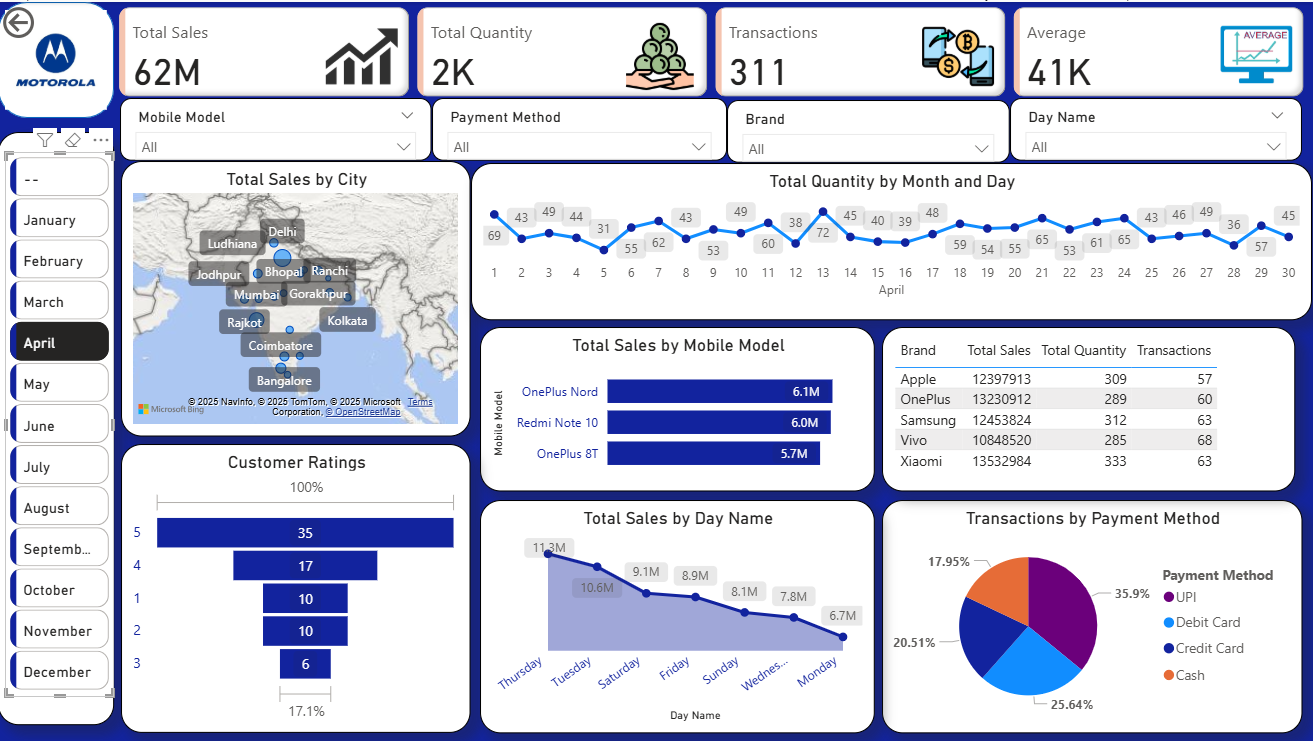

The dashboard page shown, as its layout file describes it:
{"tool":"powerbi","page":{"name":"Page 1","canvas":[1280,720],"ordinal":0},"visuals":[{"type":"shape","box":[0,126.4,112.8,576.8],"z":0},{"type":"shape","box":[0,0,112.8,112.8],"z":1000},{"type":"image","box":[6.8,7.8,99.2,97.3],"z":2000},{"type":"advancedSlicerVisual","fields":{"Values":["Sales_Data.Date.Variation.Date Hierarchy.Month"]},"box":[6.8,145.9,106,530.1],"z":3000},{"type":"cardVisual","fields":{"Data":["Sales_Data.Total Sales","Sales_Data.Total Quantity","Sales_Data.Transactions","Sales_Data.Average"]},"box":[112.8,0,1165.2,97.3],"z":4000},{"type":"map","fields":{"Category":["Sales_Data.City"],"Size":["Sales_Data.Total Sales"]},"box":[119.6,154.7,340.4,268.4],"z":5000},{"type":"lineChart","fields":{"Y":["Sales_Data.Total Quantity"],"Category":["Sales_Data.Date.Variation.Date Hierarchy.Month","Sales_Data.Date.Variation.Date Hierarchy.Day"]},"box":[460.1,156.6,818,152.7],"z":6000},{"type":"clusteredBarChart","fields":{"Category":["Sales_Data.Mobile Model"],"Y":["Sales_Data.Total Sales"]},"box":[468.8,316.1,384.2,159.5],"z":7000},{"type":"pieChart","fields":{"Category":["Sales_Data.Payment Method"],"Y":["Sales_Data.Transactions"]},"box":[859.8,484.4,408.5,226.6],"z":8000},{"type":"funnel","title":"Customer Ratings","fields":{"Category":["Sales_Data.Customer Ratings"],"Y":["CountNonNull(Sales_Data.Customer Ratings)"]},"box":[119.6,429.9,340.4,281.1],"z":9000},{"type":"areaChart","fields":{"Category":["Sales_Data.Day Name"],"Y":["Sales_Data.Total Sales"]},"box":[468.8,484.4,384.2,226.6],"z":10000},{"type":"tableEx","fields":{"Values":["Sales_Data.Brand","Sales_Data.Total Sales","Sales_Data.Total Quantity","Sales_Data.Transactions"]},"box":[859.8,316.1,401.7,159.5],"z":11000},{"type":"actionButton","box":[0,0,100,40],"z":12000},{"type":"slicer","fields":{"Values":["Sales_Data.Mobile Model"]},"box":[118.7,93.4,303.5,61.3],"z":13000},{"type":"slicer","fields":{"Values":["Sales_Data.Payment Method"]},"box":[422.1,93.4,286.9,61.3],"z":14000},{"type":"slicer","fields":{"Values":["Sales_Data.Brand"]},"box":[709.1,95.3,275.3,61.3],"z":15000},{"type":"slicer","fields":{"Values":["Sales_Data.Day Name"]},"box":[984.3,93.4,284,61.3],"z":16000}]}

Visuals, with their boxes in screenshot pixels (x1, y1, x2, y2), scaled from the page's 1280x720 canvas onto the 1313x741 screenshot:
shape: region(0, 130, 116, 724)
shape: region(0, 0, 116, 116)
image: region(7, 8, 109, 108)
advancedSlicerVisual - Sales_Data.Date.Variation.Date Hierarchy.Month: region(7, 150, 116, 696)
cardVisual - Sales_Data.Total Sales x Sales_Data.Total Quantity: region(116, 0, 1311, 100)
map - Sales_Data.City x Sales_Data.Total Sales: region(123, 159, 472, 435)
lineChart - Sales_Data.Total Quantity x Sales_Data.Date.Variation.Date Hierarchy.Month: region(472, 161, 1311, 318)
clusteredBarChart - Sales_Data.Mobile Model x Sales_Data.Total Sales: region(481, 325, 875, 489)
pieChart - Sales_Data.Payment Method x Sales_Data.Transactions: region(882, 499, 1301, 732)
"Customer Ratings" funnel: region(123, 442, 472, 732)
areaChart - Sales_Data.Day Name x Sales_Data.Total Sales: region(481, 499, 875, 732)
tableEx - Sales_Data.Brand x Sales_Data.Total Sales: region(882, 325, 1294, 489)
actionButton: region(0, 0, 103, 41)
slicer - Sales_Data.Mobile Model: region(122, 96, 433, 159)
slicer - Sales_Data.Payment Method: region(433, 96, 727, 159)
slicer - Sales_Data.Brand: region(727, 98, 1010, 161)
slicer - Sales_Data.Day Name: region(1010, 96, 1301, 159)
